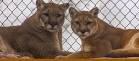lion: (1, 1, 67, 61), (66, 4, 139, 58)
